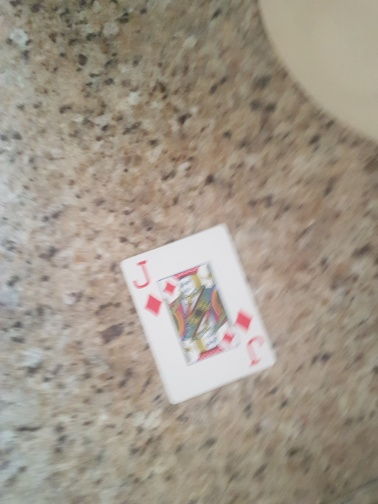jack: (120, 224, 280, 406)
